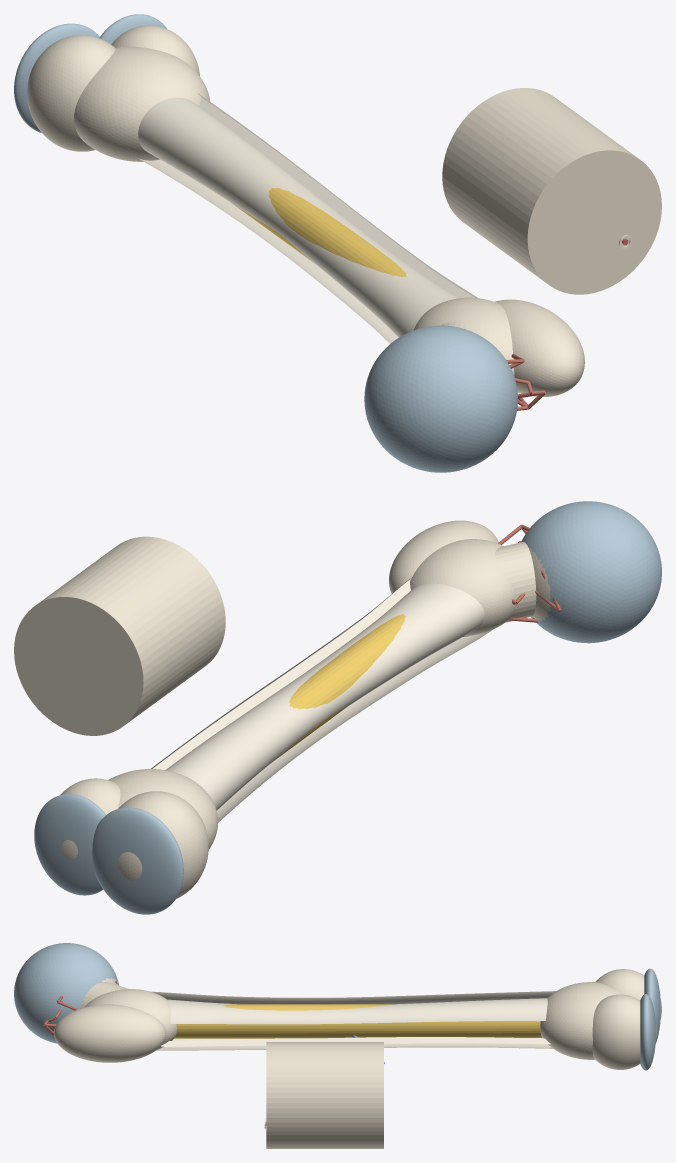
Rendered from Bone_Anatomy_Prototype.glb.
3 views of the same model, one above another, from view 1: azimuth 30°, elevation 25°; view 2: azimuth 150°, elevation 25°; view 3: azimuth 270°, elevation 25° (orthographic). The views are drawn at different scales.
Visible parts, largest first — view 1: Compact_Bone_Microstructure, Femur_Cortical_Shaft_Cutaway, Head_Articular_Cartilage, Distal_Metaphysis, Medial_Condyle, Greater_Trochanter, Yellow_Marrow, Proximal_Metaphysis, Medial_Condyle_Cartilage, Lateral_Condyle, Lateral_Condyle_Cartilage; view 2: Compact_Bone_Microstructure, Femur_Cortical_Shaft_Cutaway, Head_Articular_Cartilage, Medial_Condyle_Cartilage, Proximal_Metaphysis, Lateral_Condyle_Cartilage, Medial_Condyle, Yellow_Marrow, Distal_Metaphysis, Greater_Trochanter, Femoral_Neck, Lateral_Condyle (+1 smaller); view 3: Femur_Cortical_Shaft_Cutaway, Compact_Bone_Microstructure, Yellow_Marrow, Head_Articular_Cartilage, Greater_Trochanter, Distal_Metaphysis, Lateral_Condyle, Proximal_Metaphysis, Lateral_Condyle_Cartilage, Medial_Condyle, Medial_Condyle_Cartilage, Femoral_Neck.
Part boxes in pixels (x1,y1,x2,y2): Compact_Bone_Microstructure: (442, 88, 661, 294); Femur_Cortical_Shaft_Cutaway: (138, 93, 478, 343); Head_Articular_Cartilage: (364, 325, 517, 472); Distal_Metaphysis: (74, 46, 210, 161); Medial_Condyle: (27, 35, 115, 151); Greater_Trochanter: (495, 299, 584, 396); Yellow_Marrow: (232, 188, 406, 277); Proximal_Metaphysis: (414, 297, 514, 376); Medial_Condyle_Cartilage: (14, 23, 99, 132); Lateral_Condyle: (111, 25, 199, 75); Lateral_Condyle_Cartilage: (99, 14, 166, 44); Compact_Bone_Microstructure: (14, 536, 225, 735); Femur_Cortical_Shaft_Cutaway: (151, 576, 494, 822); Head_Articular_Cartilage: (521, 501, 661, 643); Medial_Condyle_Cartilage: (92, 807, 183, 914); Proximal_Metaphysis: (410, 539, 515, 636); Lateral_Condyle_Cartilage: (34, 794, 105, 895); Medial_Condyle: (117, 791, 208, 898); Yellow_Marrow: (273, 614, 405, 761); Distal_Metaphysis: (108, 769, 217, 849); Greater_Trochanter: (389, 520, 498, 593); Femoral_Neck: (494, 542, 536, 622); Lateral_Condyle: (60, 778, 120, 859); Femur_Cortical_Shaft_Cutaway: (151, 991, 555, 1050); Compact_Bone_Microstructure: (266, 1042, 383, 1148); Yellow_Marrow: (174, 1004, 541, 1038); Head_Articular_Cartilage: (14, 943, 118, 1043); Greater_Trochanter: (54, 1004, 166, 1062); Distal_Metaphysis: (540, 982, 622, 1059); Lateral_Condyle: (592, 994, 656, 1069); Proximal_Metaphysis: (84, 989, 176, 1050); Lateral_Condyle_Cartilage: (640, 994, 655, 1070); Medial_Condyle: (595, 969, 661, 1018); Medial_Condyle_Cartilage: (644, 968, 660, 1043); Femoral_Neck: (80, 982, 128, 1008).
Size of the model in its own units: 6.43 by 2 by 12.12.
